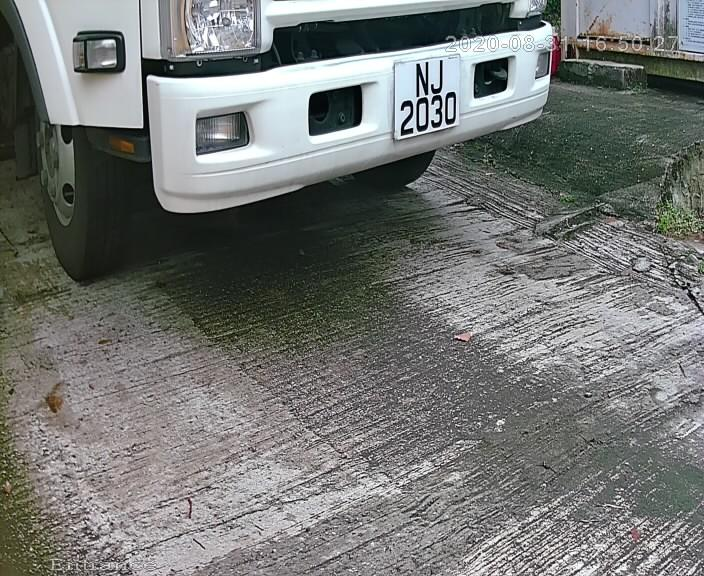License Plate: (362, 39, 478, 155)
